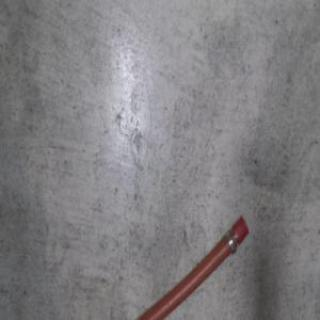Hosetrack_idkeyframe: (121, 212, 249, 319)
